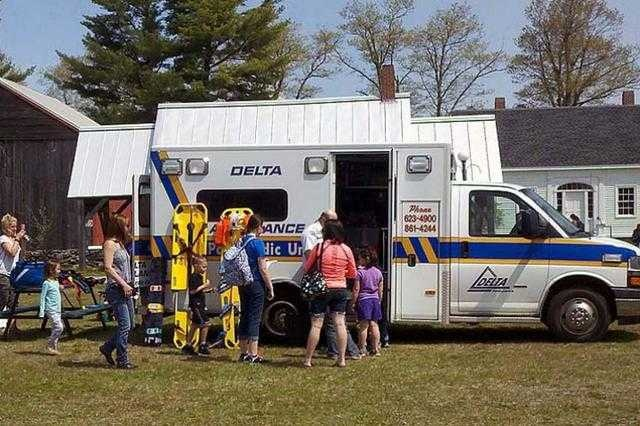Ambulance: (126, 137, 623, 350)
